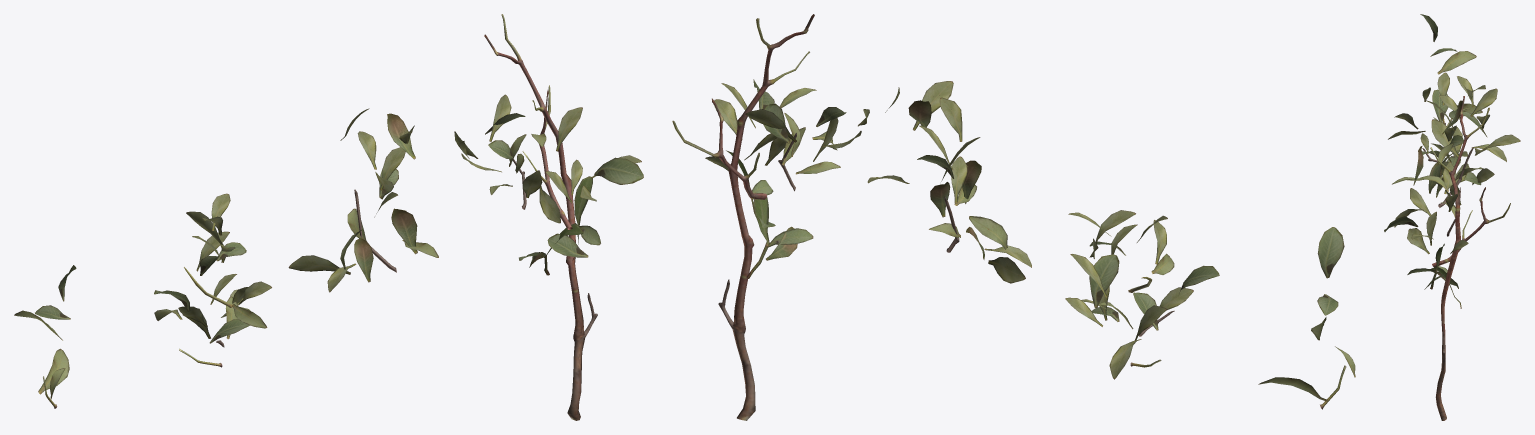
The model's file is kf_shrub_d.glb.
3 renders of one model, left to right at view 1: azimuth 30°, elevation 25°; view 2: azimuth 150°, elevation 25°; view 3: azimuth 270°, elevation 25°, orthographic. The views are drawn at different scales.
Visible parts, largest first — view 1: shrub_04; view 2: shrub_04; view 3: shrub_04.
Boxes of the visible parts, left/top/right/bottom form: shrub_04: left=14, top=14, right=643, bottom=420; shrub_04: left=672, top=14, right=1355, bottom=420; shrub_04: left=1384, top=14, right=1520, bottom=420.
Size of the model in its own units: 0.5718 by 0.3679 by 0.154.
Materials: 1 (1 with a texture image).
